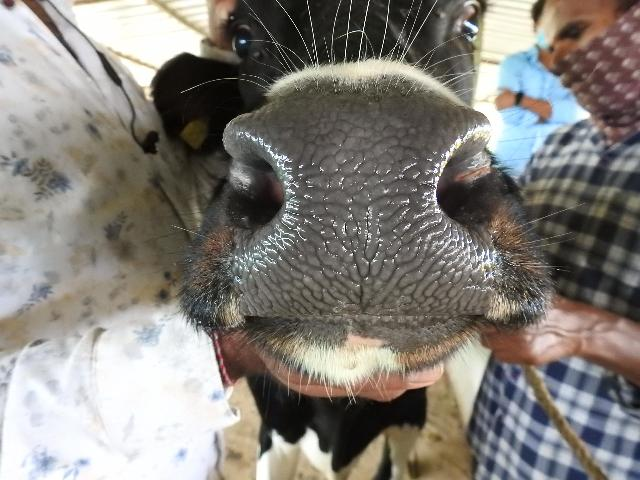Muzzle: (233, 106, 483, 338)
